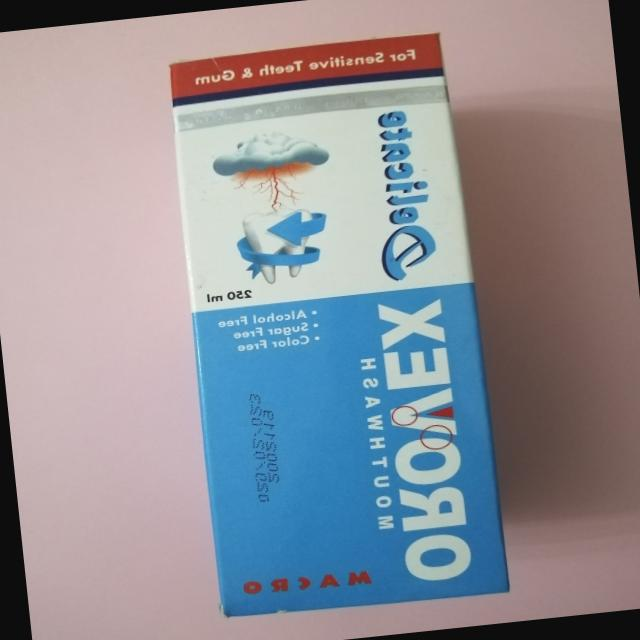medicine_packaging: (126, 9, 536, 640)
